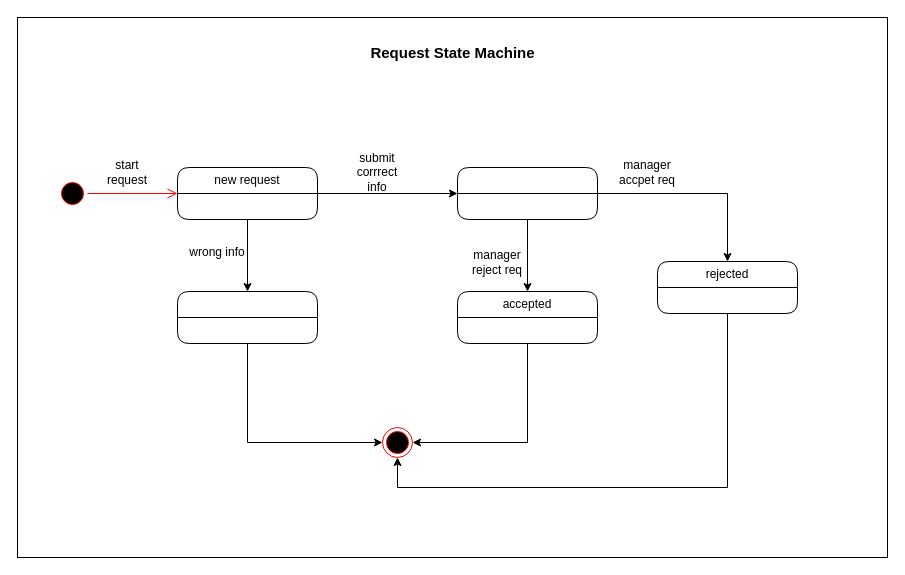
Image size: 905x575. Some labels were removed from this diagram. The shapes that lost their labels are listed below. From the top down, each one's centre as x and y in pixels, then its label:
pixel 527 193: request sent
pixel 247 317: error
